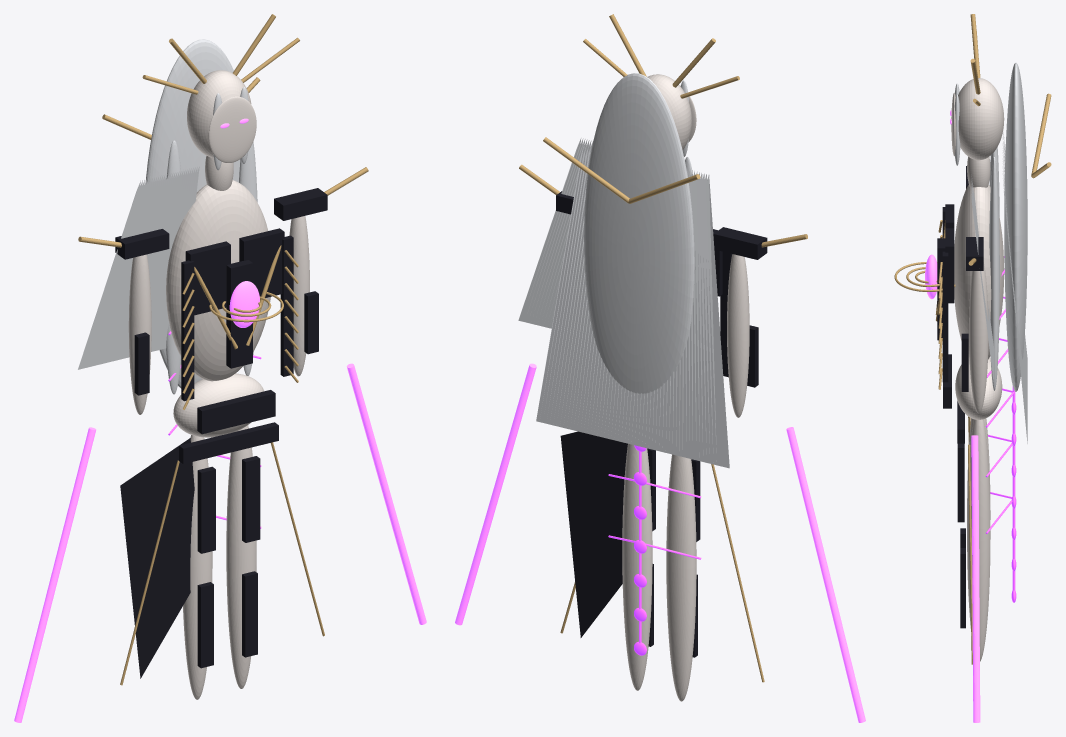
The model's file is lilith_character.glb.
3 renders of one model, left to right at view 1: azimuth 30°, elevation 25°; view 2: azimuth 150°, elevation 25°; view 3: azimuth 270°, elevation 25°, orthographic. The views are drawn at different scales.
Parts seen in each view (by area): view 1: BLACK_SKIRT_WING_0, BODY_SKIN_TORSO, HAIR_BACK_SILVER_MASS, BODY_SKIN_R_LEG, BODY_SKIN_L_LEG, LEFT_VIOLET_BLADE, BODY_SKIN_PELVIS, BODY_SKIN_FACE, BODY_SKIN_HEAD, BODY_SKIN_L_ARM, RIGHT_VIOLET_BLADE, ARMOR_WAIST_LOCK (+29 smaller); view 2: HAIR_BACK_SILVER_MASS, BLACK_SKIRT_WING_1, BODY_SKIN_L_LEG, BODY_SKIN_R_LEG, BODY_SKIN_L_ARM, LEFT_VIOLET_BLADE, HAIR_CARD_BACK_000, RIGHT_VIOLET_BLADE, HAIR_CARD_BACK_051, HAIR_CARD_BACK_001, HAIR_CARD_BACK_003, HAIR_CARD_SIDE_113 (+23 smaller); view 3: HAIR_BACK_SILVER_MASS, BODY_SKIN_TORSO, BODY_SKIN_HEAD, BODY_SKIN_R_LEG, BODY_SKIN_R_ARM, RIGHT_VIOLET_BLADE, HAIR_SIDE_RIGHT, BODY_SKIN_PELVIS, BODY_SKIN_NECK, ARMOR_THIGH_RIGHT, GOLD_SKIRT_EDGE_1, ARMOR_CHEST_RIGHT (+12 smaller).
Boxes of the visible parts, left/top/right/bottom form: BLACK_SKIRT_WING_0: left=120, top=438, right=194, bottom=678; BODY_SKIN_TORSO: left=166, top=180, right=270, bottom=381; HAIR_BACK_SILVER_MASS: left=145, top=39, right=240, bottom=388; BODY_SKIN_R_LEG: left=226, top=425, right=256, bottom=688; BODY_SKIN_L_LEG: left=183, top=435, right=212, bottom=699; LEFT_VIOLET_BLADE: left=14, top=427, right=96, bottom=722; BODY_SKIN_PELVIS: left=173, top=373, right=263, bottom=437; BODY_SKIN_FACE: left=208, top=96, right=256, bottom=162; BODY_SKIN_HEAD: left=187, top=70, right=251, bottom=157; BODY_SKIN_L_ARM: left=128, top=254, right=151, bottom=414; RIGHT_VIOLET_BLADE: left=346, top=363, right=426, bottom=624; ARMOR_WAIST_LOCK: left=197, top=390, right=275, bottom=434; HAIR_BACK_SILVER_MASS: left=584, top=73, right=694, bottom=393; BLACK_SKIRT_WING_1: left=560, top=431, right=627, bottom=637; BODY_SKIN_L_LEG: left=666, top=454, right=696, bottom=701; BODY_SKIN_R_LEG: left=622, top=443, right=652, bottom=690; BODY_SKIN_L_ARM: left=727, top=254, right=749, bottom=417; LEFT_VIOLET_BLADE: left=786, top=427, right=865, bottom=722; HAIR_CARD_BACK_000: left=706, top=175, right=729, bottom=468; RIGHT_VIOLET_BLADE: left=455, top=363, right=536, bottom=625; HAIR_CARD_BACK_051: left=543, top=145, right=588, bottom=425; HAIR_CARD_BACK_001: left=703, top=174, right=726, bottom=467; HAIR_CARD_BACK_003: left=698, top=173, right=719, bottom=465; HAIR_CARD_SIDE_113: left=518, top=138, right=581, bottom=324; HAIR_BACK_SILVER_MASS: left=1004, top=62, right=1027, bottom=391; BODY_SKIN_TORSO: left=954, top=184, right=1004, bottom=359; BODY_SKIN_HEAD: left=958, top=78, right=1004, bottom=160; BODY_SKIN_R_LEG: left=967, top=419, right=990, bottom=661; BODY_SKIN_R_ARM: left=969, top=262, right=988, bottom=413; RIGHT_VIOLET_BLADE: left=971, top=435, right=980, bottom=722; HAIR_SIDE_RIGHT: left=989, top=157, right=999, bottom=390; BODY_SKIN_PELVIS: left=955, top=357, right=1002, bottom=419; BODY_SKIN_NECK: left=967, top=156, right=990, bottom=187; ARMOR_THIGH_RIGHT: left=957, top=443, right=964, bottom=522; GOLD_SKIRT_EDGE_1: left=968, top=444, right=972, bottom=664; ARMOR_CHEST_RIGHT: left=945, top=228, right=954, bottom=303.
Size of the model in its own units: 2.23 by 3.48 by 0.8028.
